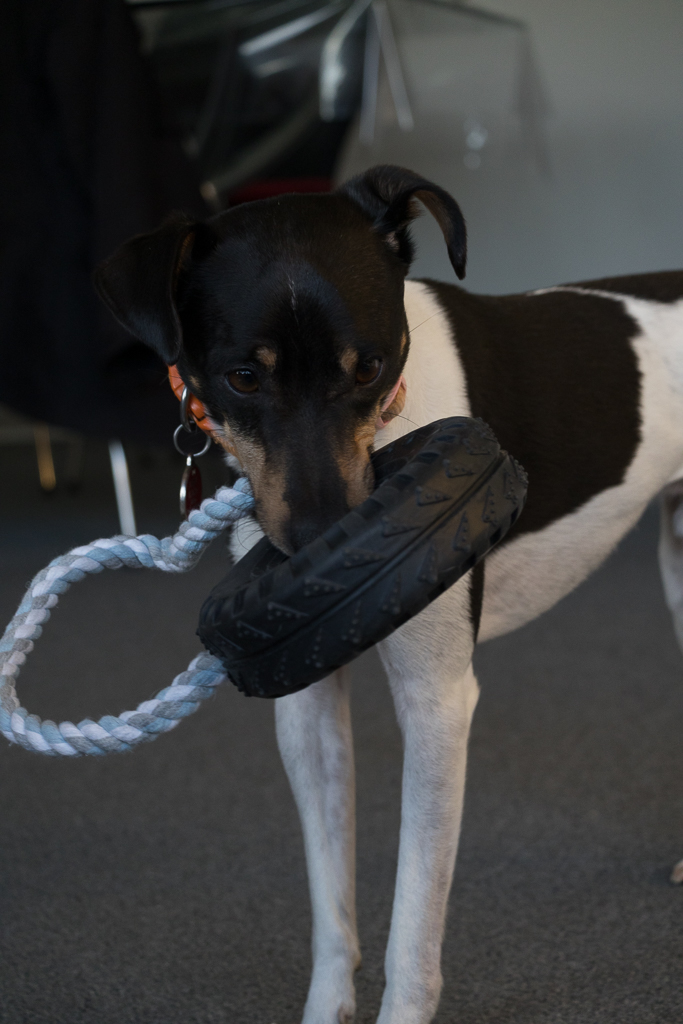Dog: (89, 154, 683, 1024)
